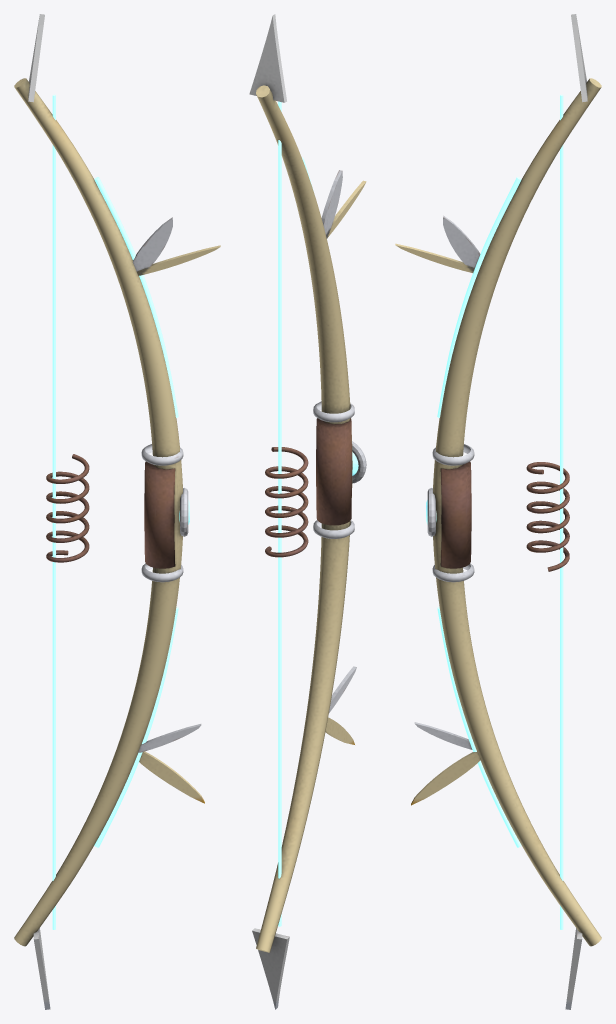
The model's file is arma_lend_arco_sagrado.glb.
3 views of the same model, side by side, from view 1: azimuth 90°, elevation 25°; view 2: azimuth 150°, elevation 25°; view 3: azimuth 270°, elevation 25° (orthographic).
Parts seen in each view (by area): view 1: arma_lend_arco_sagrado, corda, filete1, filete-1; view 2: arma_lend_arco_sagrado, corda; view 3: arma_lend_arco_sagrado, corda, filete1, filete-1.
Boxes of the visible parts, x1,y1,x2,y2 form: arma_lend_arco_sagrado: (14, 14, 220, 1009); corda: (52, 94, 55, 929); filete1: (94, 177, 178, 417); filete-1: (94, 606, 178, 847); arma_lend_arco_sagrado: (249, 14, 366, 1009); corda: (278, 101, 281, 926); arma_lend_arco_sagrado: (395, 14, 601, 1009); corda: (560, 94, 563, 929); filete1: (437, 177, 521, 417); filete-1: (437, 606, 521, 847).
Size of the model in its own units: 0.0728 by 1.62 by 0.3045.
Materials: 5 (1 with a texture image).
